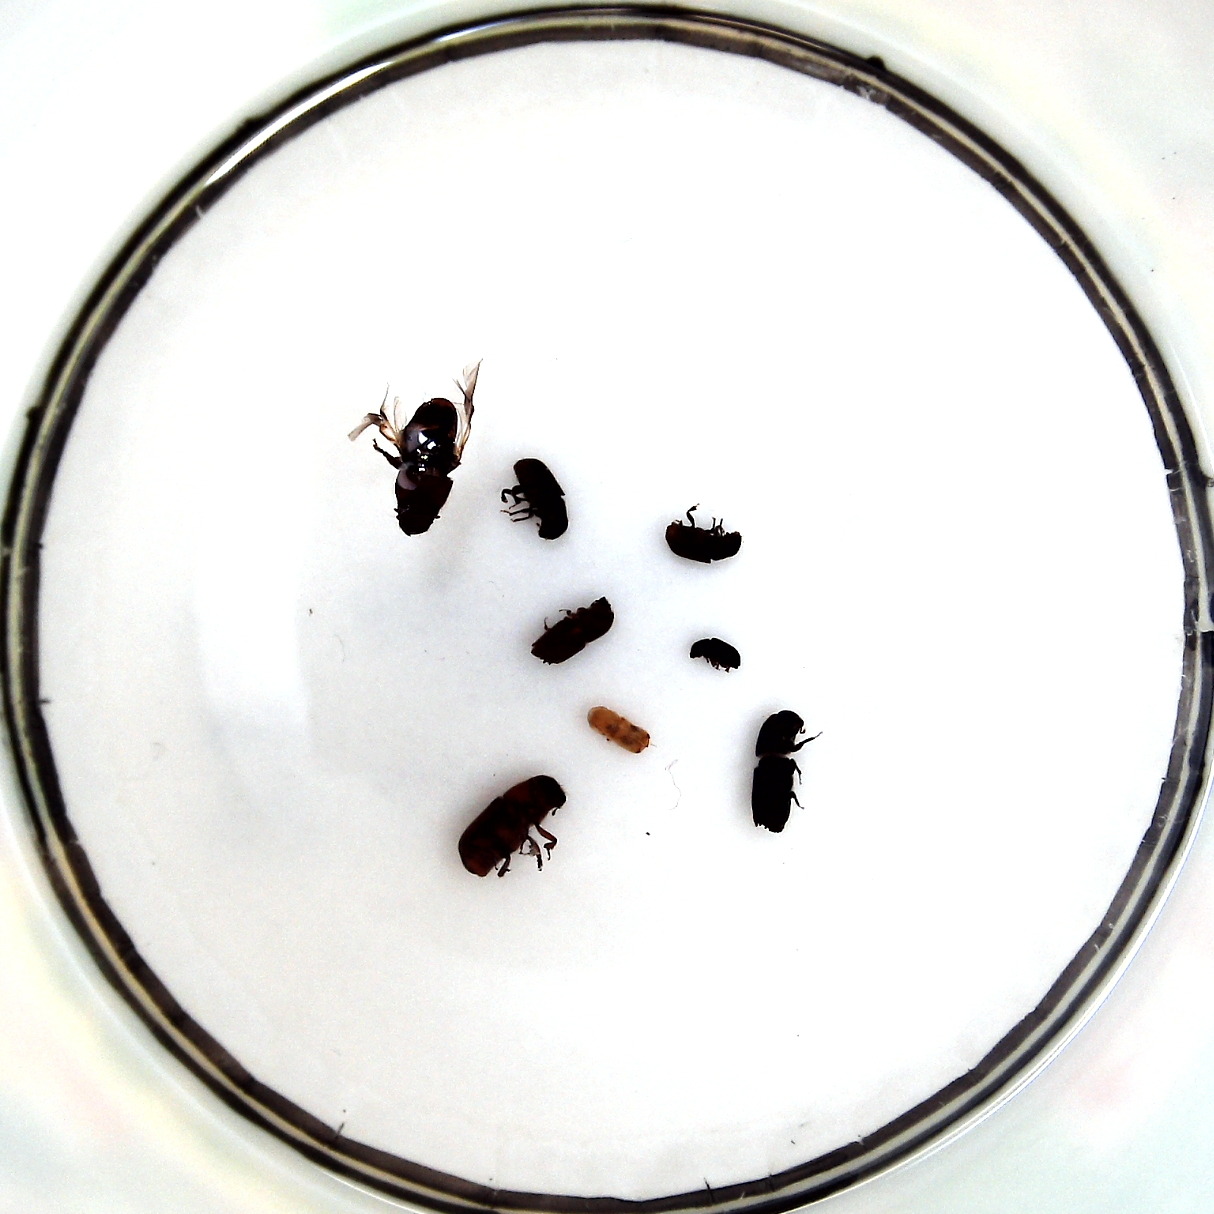Boerner: (752, 709, 803, 834)
Leconte: (458, 773, 566, 877), (391, 397, 465, 537)
acuminatus: (689, 638, 742, 674)
armandi: (513, 458, 569, 541), (665, 518, 742, 564)
coleoptera: (586, 704, 653, 755)
linnaeus: (530, 595, 615, 666)
